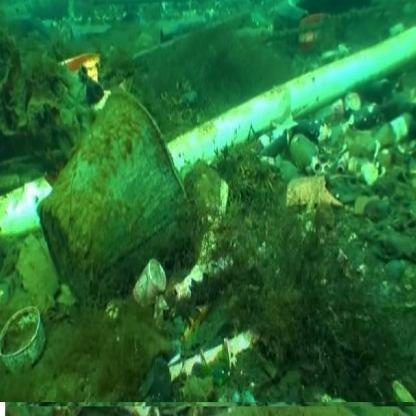misc: (27, 100, 197, 309)
